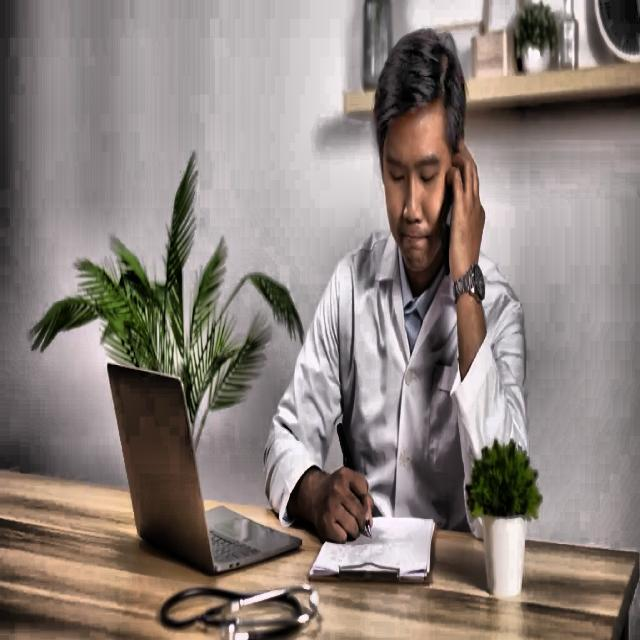Phone: (440, 146, 457, 284)
